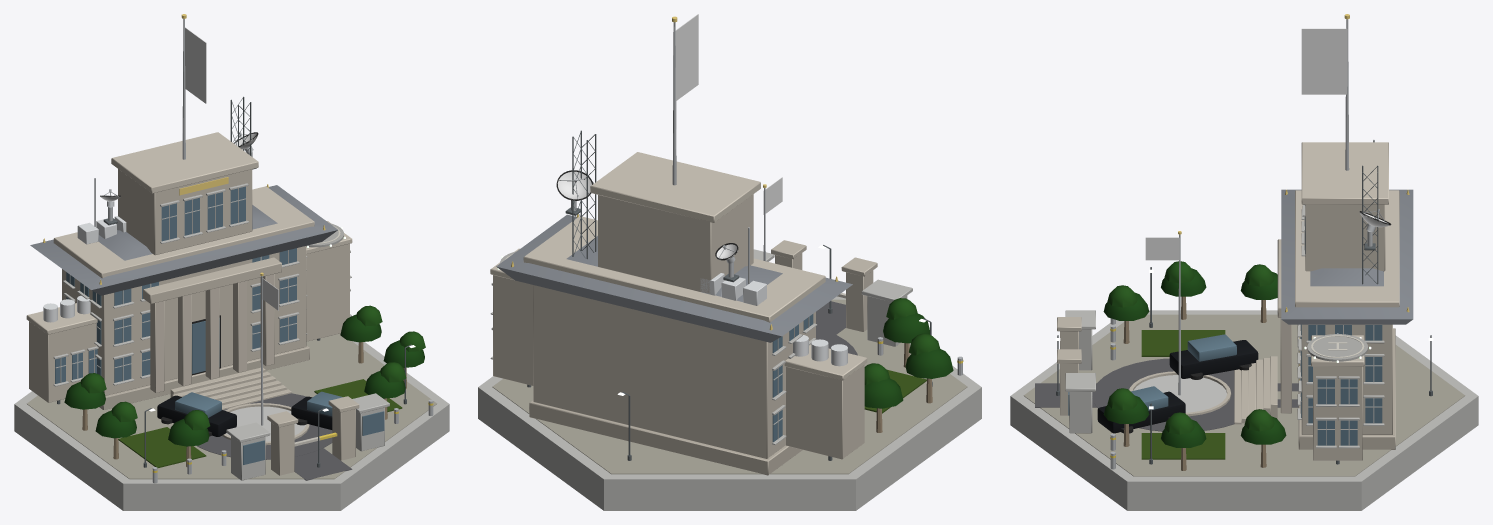
Rendered from hq_asia.glb.
3 renders of one model, left to right at view 1: azimuth 30°, elevation 25°; view 2: azimuth 150°, elevation 25°; view 3: azimuth 270°, elevation 25°, orthographic. The views are drawn at different scales.
Visible parts, largest first — view 1: stone, wall_concrete, pavers, glass, roof_slate, leaf, asphalt, turf, paint, banner, cladding, metal (+2 smaller); view 2: stone, wall_concrete, pavers, roof_slate, leaf, cladding, banner, steel_dark, metal, asphalt, paint, glass (+1 smaller); view 3: stone, wall_concrete, pavers, roof_slate, leaf, glass, banner, asphalt, paint, turf, metal, steel_dark (+1 smaller).
Boxes of the visible parts, <box> form: stone: <box>26,132,359,475</box>; wall_concrete: <box>14,183,449,510</box>; pavers: <box>27,333,436,479</box>; glass: <box>55,186,384,464</box>; roof_slate: <box>30,185,337,295</box>; leaf: <box>64,305,425,446</box>; asphalt: <box>197,393,352,480</box>; turf: <box>118,379,402,468</box>; paint: <box>100,133,340,446</box>; banner: <box>185,27,278,310</box>; cladding: <box>43,216,126,322</box>; metal: <box>94,19,433,483</box>; stone: <box>490,152,877,475</box>; wall_concrete: <box>478,249,981,510</box>; pavers: <box>492,299,967,474</box>; roof_slate: <box>496,214,852,342</box>; leaf: <box>864,298,953,408</box>; cladding: <box>700,273,847,366</box>; banner: <box>673,14,782,214</box>; steel_dark: <box>527,130,932,460</box>; metal: <box>559,22,962,375</box>; asphalt: <box>816,301,857,355</box>; paint: <box>505,171,845,298</box>; glass: <box>772,314,813,442</box>; stone: <box>1057,142,1399,460</box>; wall_concrete: <box>1010,204,1478,510</box>; pavers: <box>1023,314,1465,476</box>; roof_slate: <box>1281,189,1413,324</box>; leaf: <box>1103,261,1286,447</box>; glass: <box>1068,205,1382,445</box>; banner: <box>1145,28,1347,260</box>; asphalt: <box>1035,358,1298,431</box>; paint: <box>1097,211,1391,433</box>; turf: <box>1141,330,1225,459</box>; metal: <box>1110,19,1385,469</box>; steel_dark: <box>1056,165,1432,464</box>.
Size of the model in its own units: 21.3 by 23.78 by 24.6.
